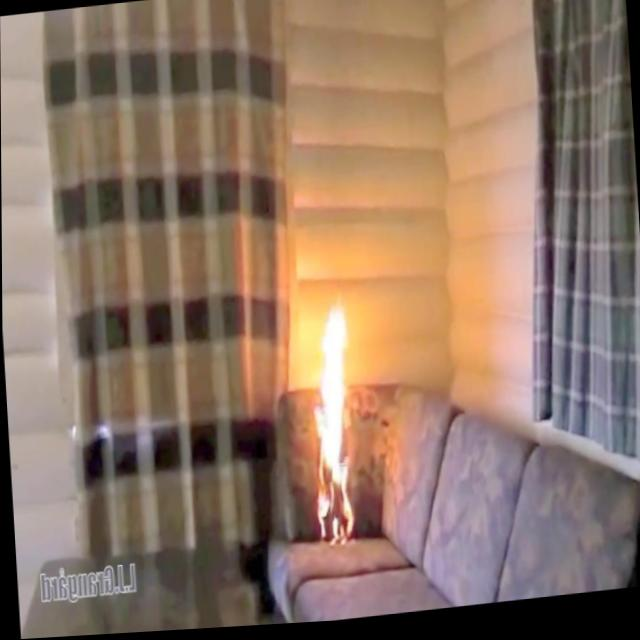fire: (295, 297, 366, 564)
